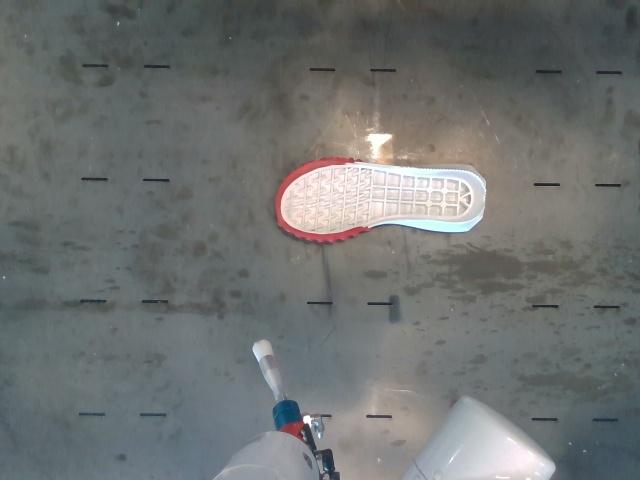shoes: (276, 159, 486, 241)
